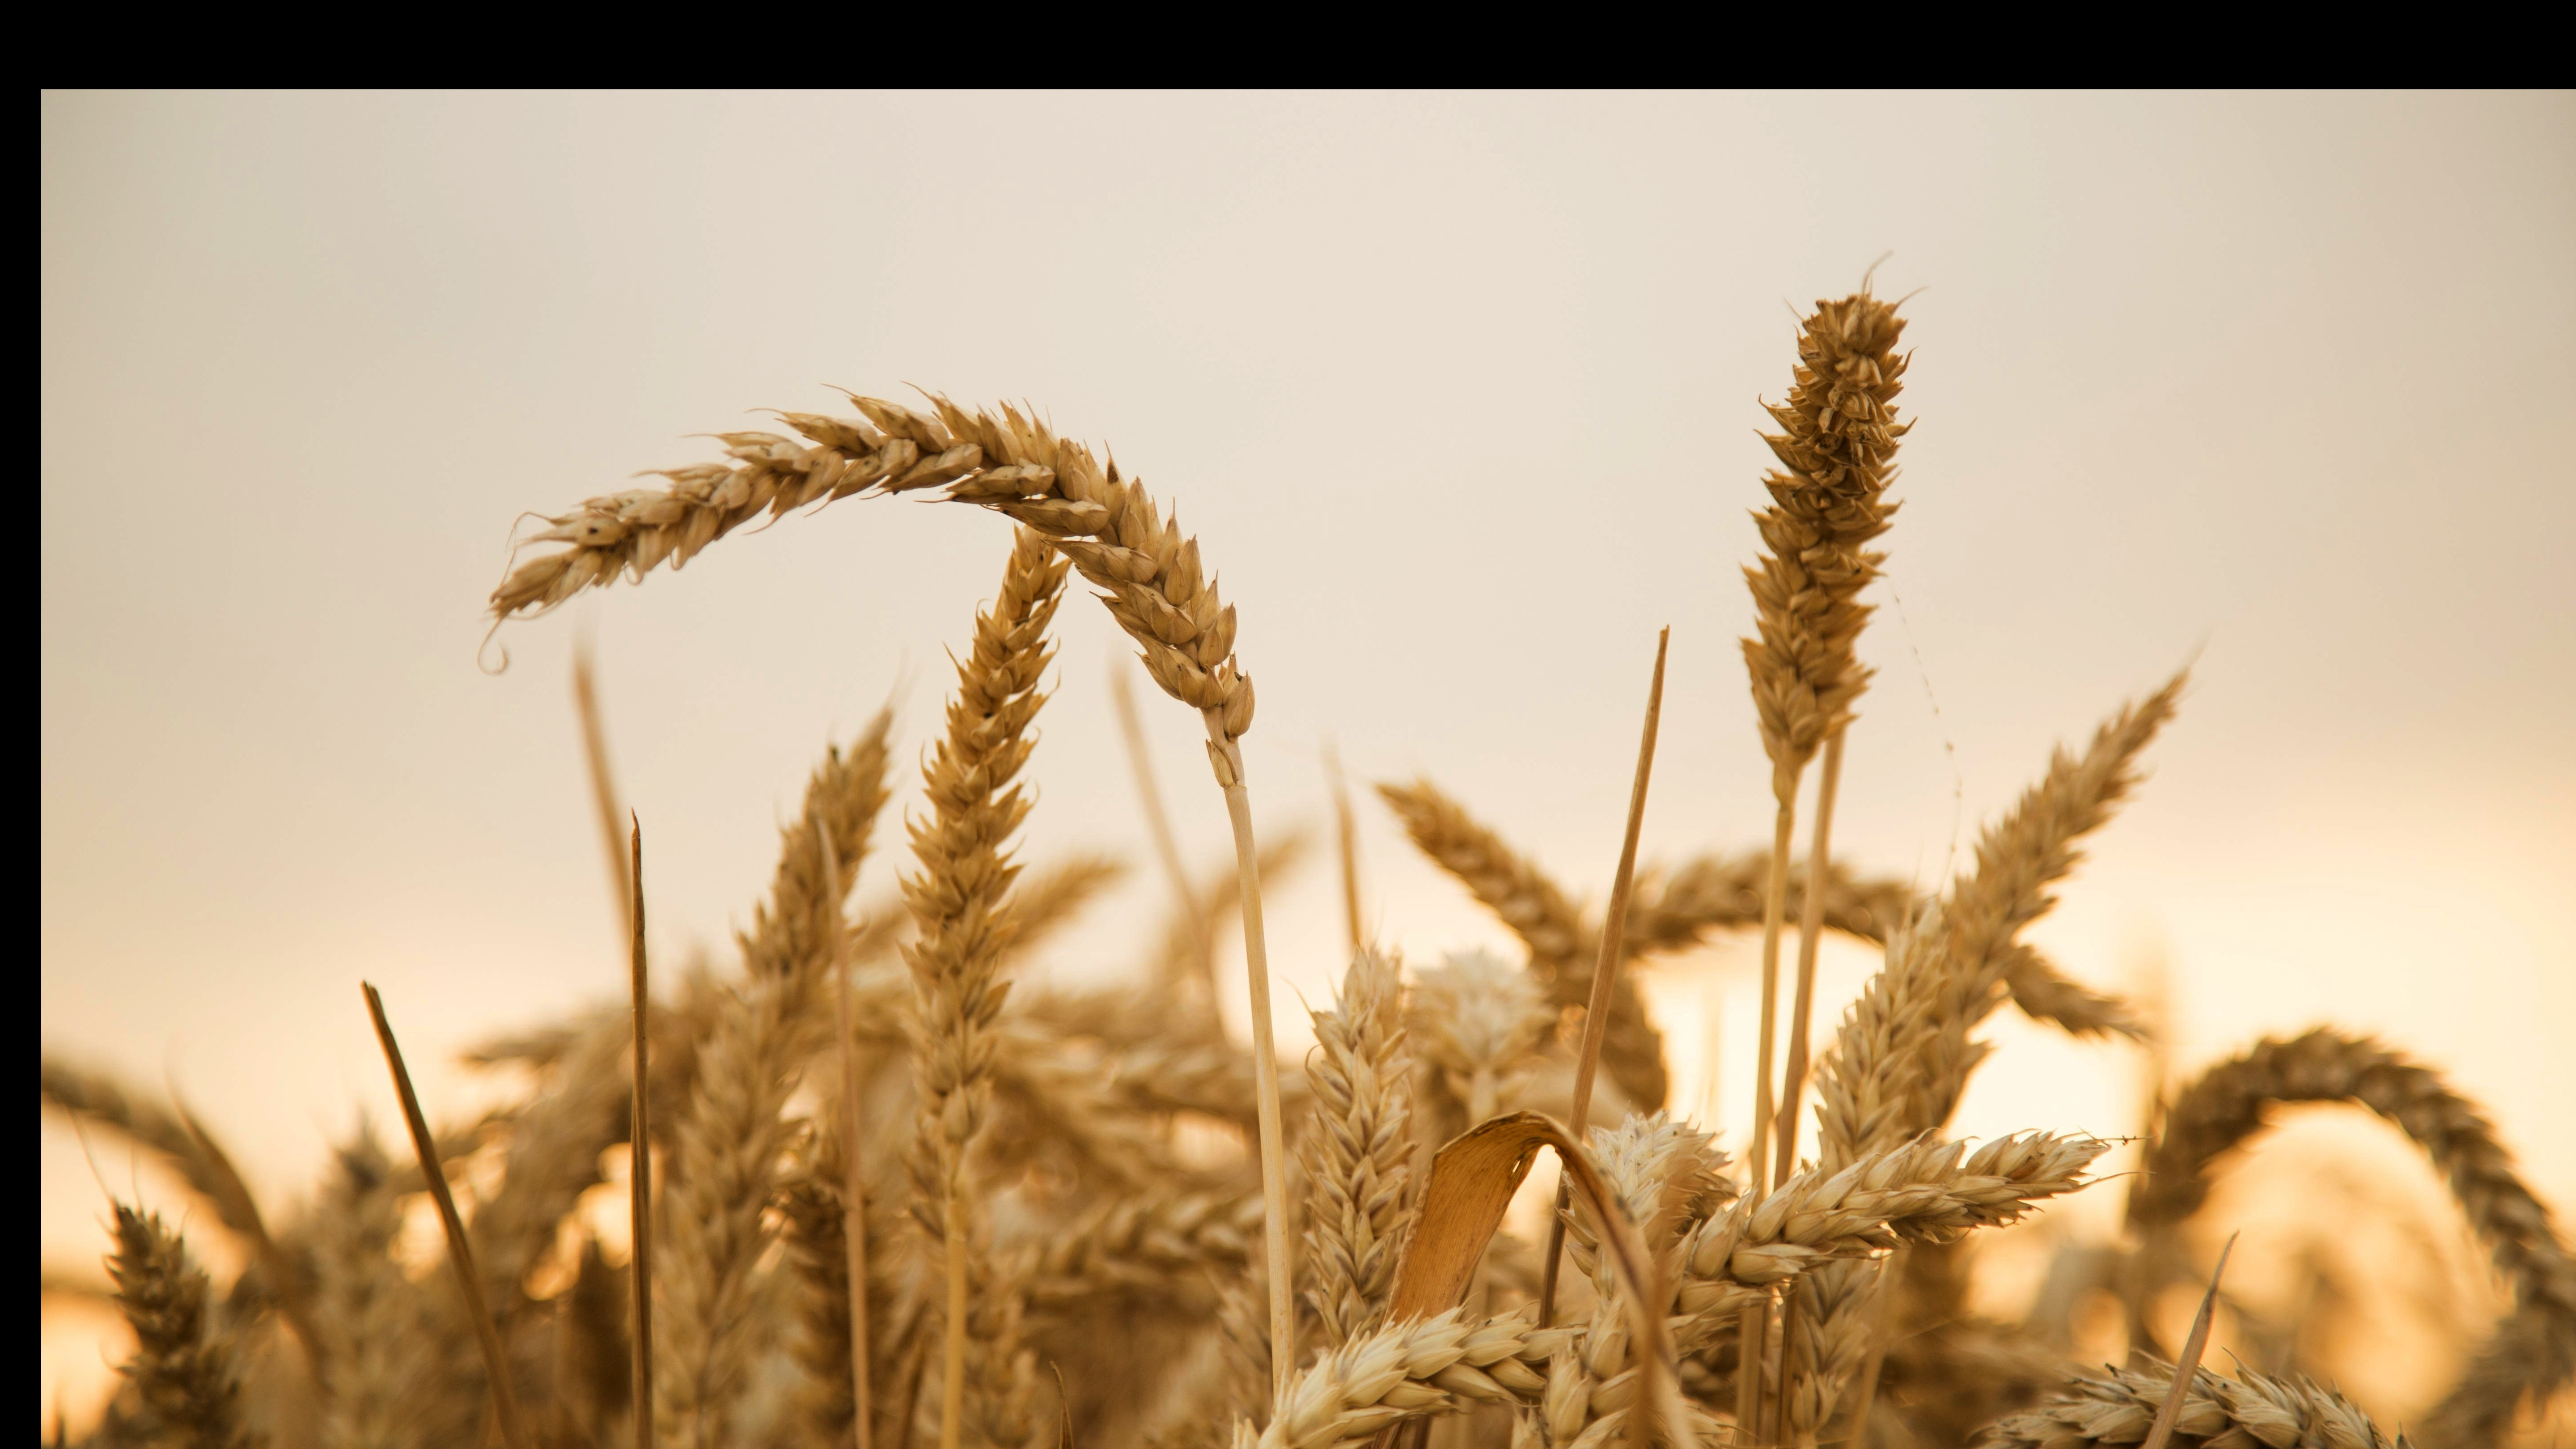wheat: (456, 379, 1254, 761), (895, 485, 1070, 1196), (1752, 235, 1909, 837)
